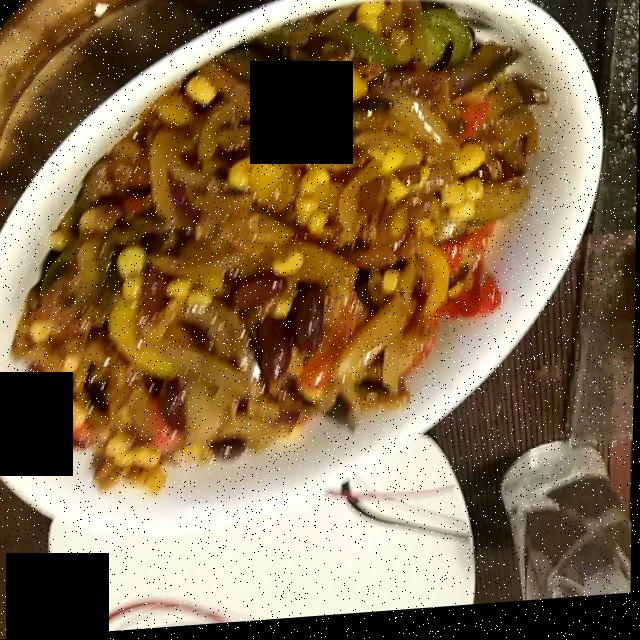beans-kidney: (59, 242, 351, 467)
mixed-vegetables: (56, 6, 546, 476)
